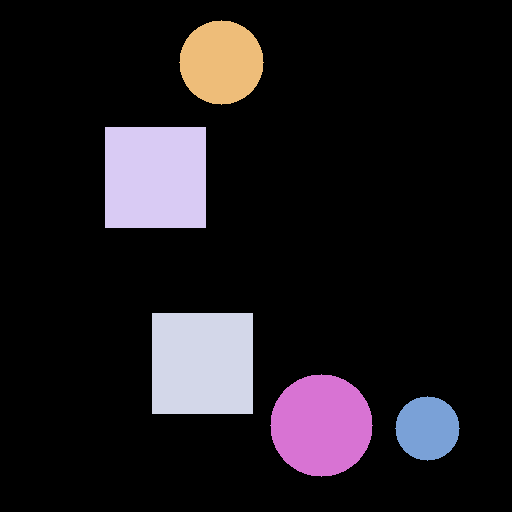circle: (270, 374, 372, 476), (179, 20, 263, 104), (395, 396, 459, 460)
square: (152, 313, 252, 413), (105, 127, 205, 227)
